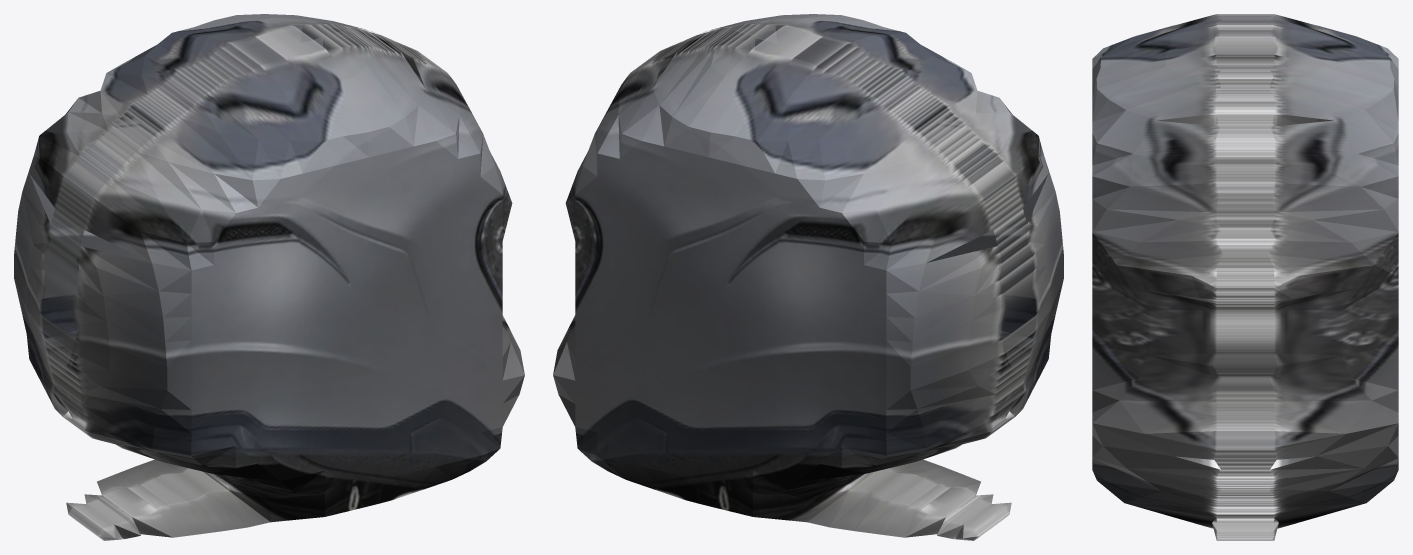
File: sidi-vector-urban-helmet-074.glb
3 renders of one model, left to right at view 1: azimuth 30°, elevation 25°; view 2: azimuth 150°, elevation 25°; view 3: azimuth 270°, elevation 25°, orthographic. The views are drawn at different scales.
Parts seen in each view (by area): view 1: world; view 2: world; view 3: world.
Part boxes in pixels (<box>): world: <box>14,14,524,540</box>; world: <box>553,14,1063,540</box>; world: <box>1092,14,1398,540</box>.
Bounding box in the file's own units: 1 × 0.9931 × 0.64.
1 material, 1 textured.
